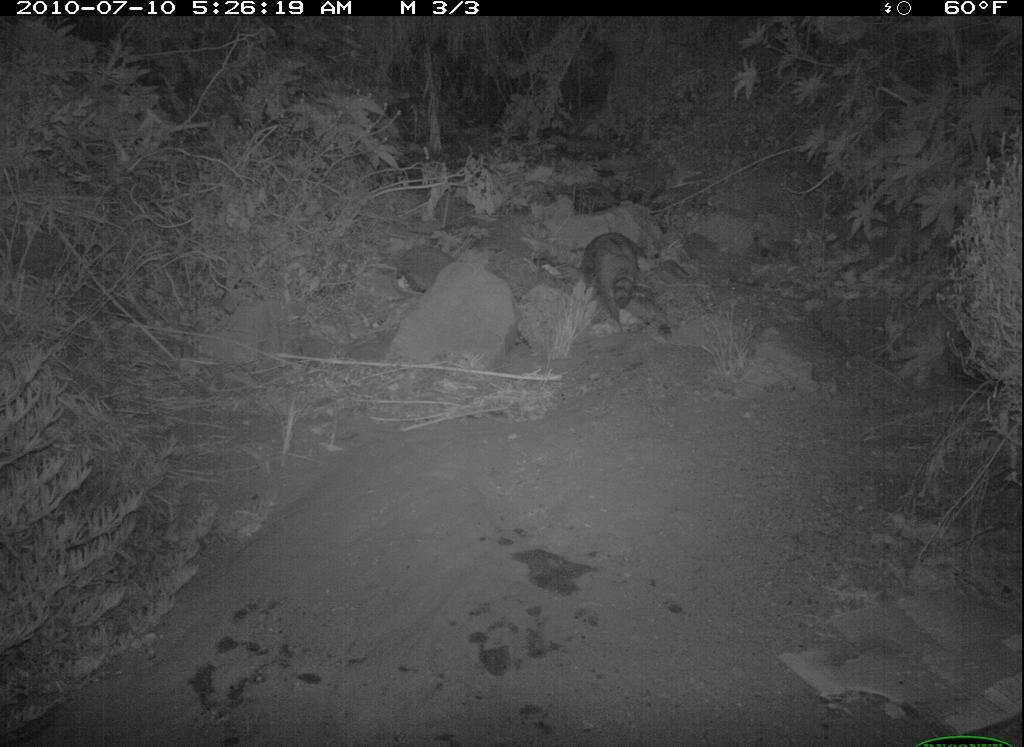raccoon: (570, 216, 666, 326)
